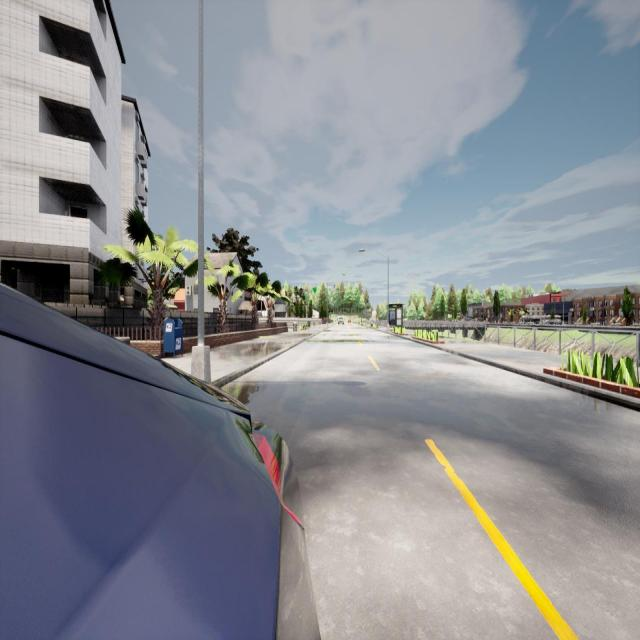Vehicle: (0, 285, 319, 638), (338, 316, 344, 325), (347, 319, 352, 324)
